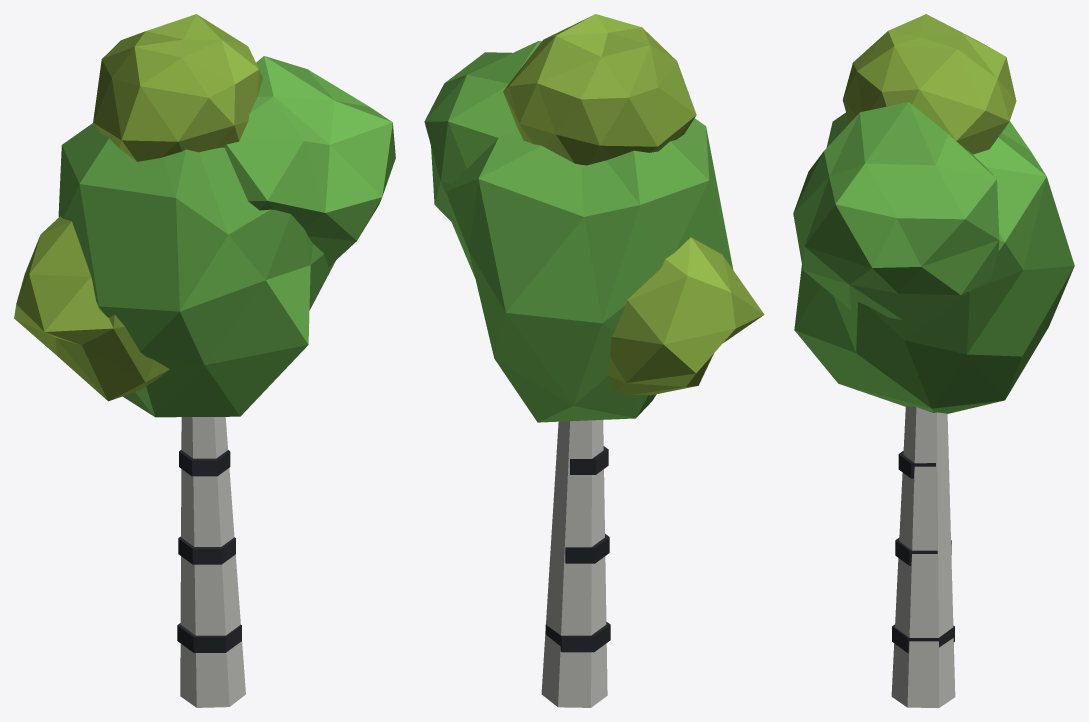
File: Scatter_Birch.fbx
3 renders of one model, left to right at view 1: azimuth 30°, elevation 25°; view 2: azimuth 150°, elevation 25°; view 3: azimuth 270°, elevation 25°, orthographic. The views are drawn at different scales.
Parts seen in each view (by area): view 1: Birch; view 2: Birch; view 3: Birch.
Boxes of the visible parts, left/top/right/bottom form: Birch: left=14, top=14, right=395, bottom=707; Birch: left=424, top=14, right=764, bottom=707; Birch: left=793, top=14, right=1074, bottom=707.
Size of the model in its own units: 10.01 by 19.1 by 7.51.
